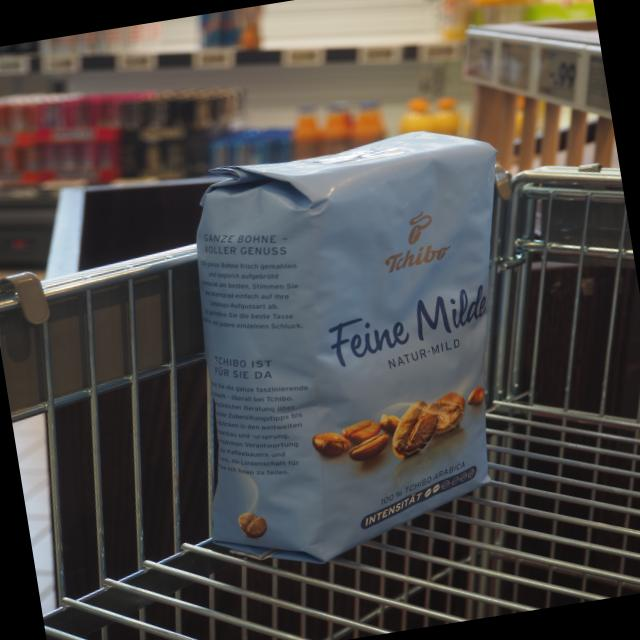FM Bohne: (145, 113, 566, 586)
